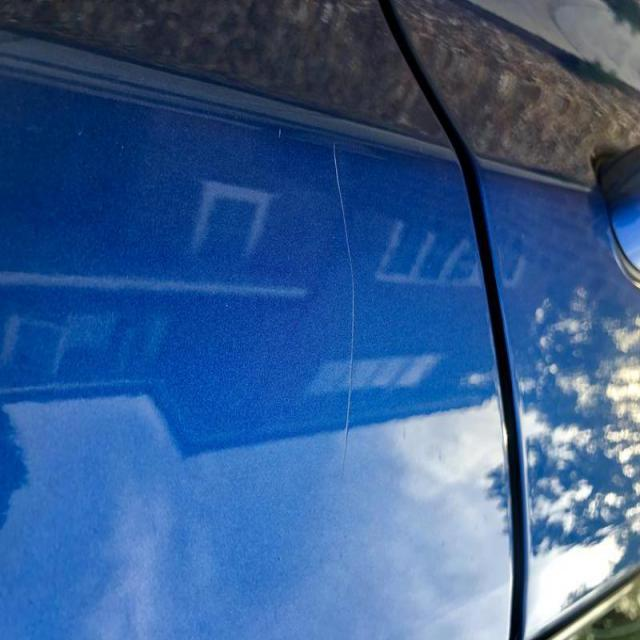scratch: (328, 132, 366, 509)
